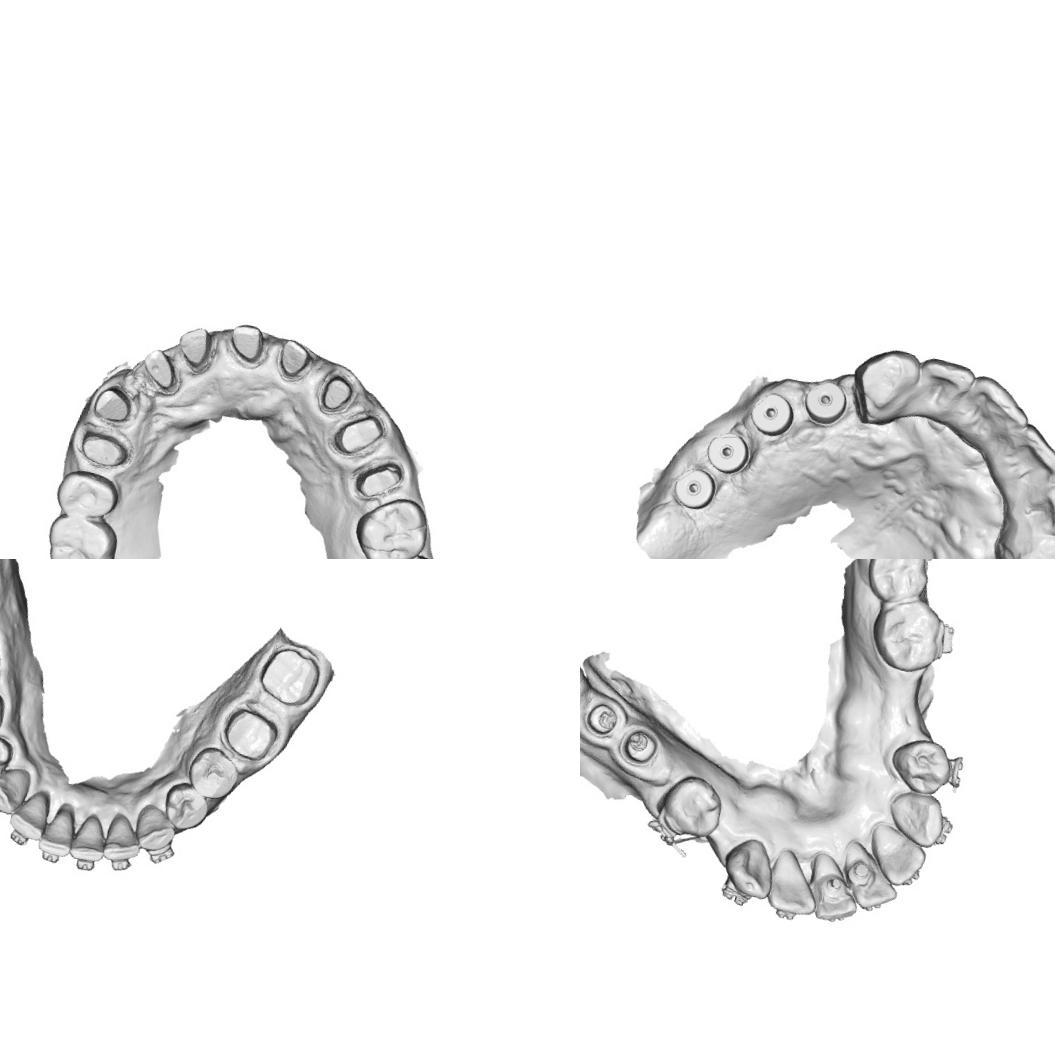abutment: (617, 724, 664, 776), (580, 693, 628, 743)
canine: (846, 341, 928, 436), (716, 833, 780, 903), (882, 789, 950, 852), (132, 800, 180, 856), (1002, 521, 1055, 559), (0, 762, 32, 818)
crown: (250, 639, 326, 714), (215, 700, 285, 770), (330, 406, 389, 464), (352, 454, 408, 505), (170, 322, 218, 374), (224, 318, 272, 367), (77, 429, 132, 471), (136, 344, 180, 393), (89, 381, 136, 426), (274, 334, 316, 382), (317, 371, 358, 416)
implant: (668, 460, 722, 514), (748, 386, 797, 435), (802, 376, 848, 422), (706, 429, 747, 473)
incisor: (906, 353, 977, 438), (960, 373, 1036, 450), (864, 818, 932, 894), (836, 844, 905, 916), (764, 846, 826, 920), (806, 858, 864, 926), (1007, 420, 1055, 496), (5, 785, 52, 842), (102, 811, 147, 866), (36, 804, 79, 860), (68, 810, 110, 865), (1026, 474, 1055, 540)
molar: (863, 591, 947, 679), (346, 488, 434, 559), (38, 509, 123, 559), (859, 559, 936, 610)
premolar: (655, 769, 732, 845), (884, 730, 954, 800), (51, 464, 124, 525), (184, 742, 244, 803), (160, 778, 213, 836), (0, 729, 15, 785)
